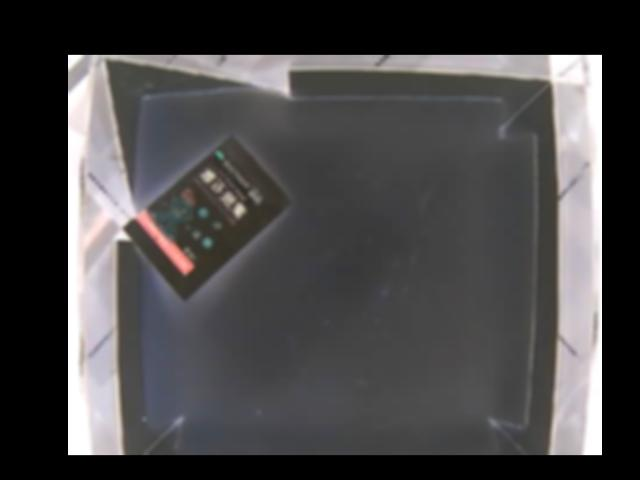Medicine: (120, 133, 294, 299)
